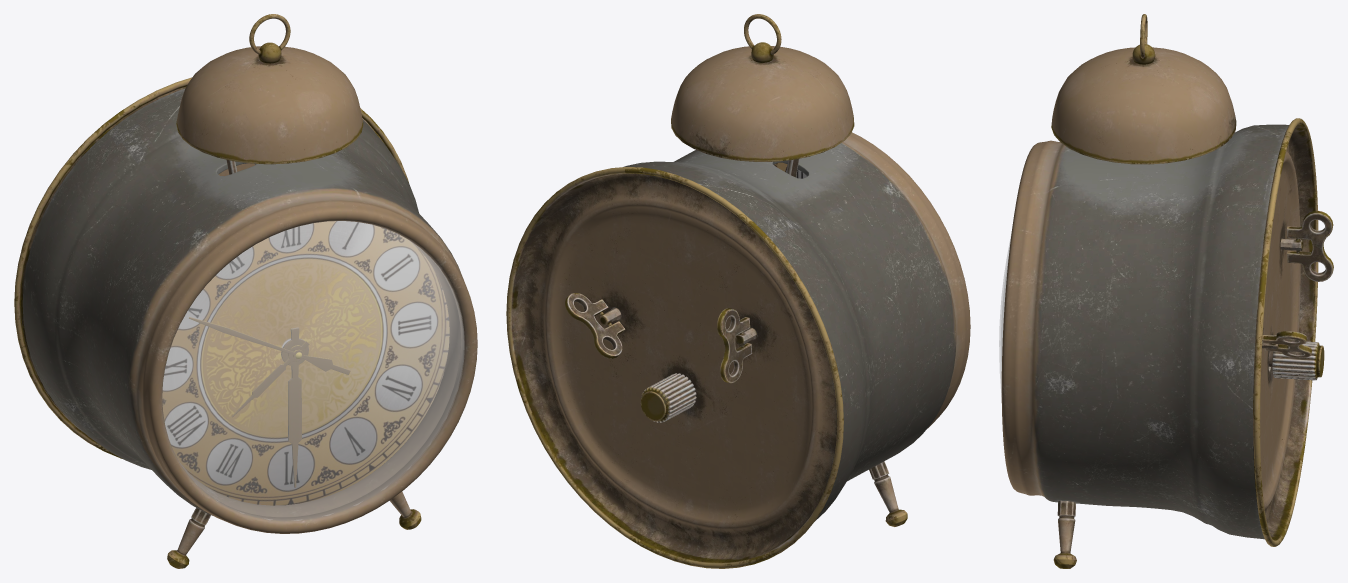
Rendered from Alarm_Clock_UV.glb.
3 renders of one model, left to right at view 1: azimuth 30°, elevation 25°; view 2: azimuth 150°, elevation 25°; view 3: azimuth 270°, elevation 25°, orthographic.
Parts seen in each view (by area): view 1: Body, Glass1, Time_Space, bell, Back_Panel, Minute, Leg_left, Seconds, Hours, Leg_Right; view 2: Back_Panel, Body, bell, Back_Knob, polySurface1, polySurface3, Leg_left; view 3: Body, Back_Panel, bell, polySurface3, Back_Knob, Leg_Right, polySurface1, Glass1.
Boxes of the visible parts, <box> form: Body: <box>22,89,477,533</box>; Glass1: <box>162,221,464,520</box>; Time_Space: <box>162,221,449,505</box>; bell: <box>176,46,363,164</box>; Back_Panel: <box>14,77,408,458</box>; Minute: <box>281,327,308,487</box>; Leg_left: <box>167,508,210,568</box>; Seconds: <box>189,317,350,374</box>; Hours: <box>232,341,309,416</box>; Leg_Right: <box>390,491,421,529</box>; Back_Panel: <box>506,167,843,568</box>; Body: <box>613,132,970,520</box>; bell: <box>671,46,854,161</box>; Back_Knob: <box>640,373,696,422</box>; polySurface1: <box>565,293,625,358</box>; polySurface3: <box>717,308,752,383</box>; Leg_left: <box>869,461,907,526</box>; Body: <box>1001,124,1288,539</box>; Back_Panel: <box>1253,118,1318,546</box>; bell: <box>1051,47,1236,164</box>; polySurface3: <box>1286,210,1333,281</box>; Back_Knob: <box>1268,341,1324,380</box>; Leg_Right: <box>1053,500,1076,568</box>; polySurface1: <box>1262,331,1311,357</box>; Glass1: <box>999,238,1010,392</box>.
Size of the model in its own units: 1.5 by 1.96 by 1.18.
5 materials, 4 textured.
